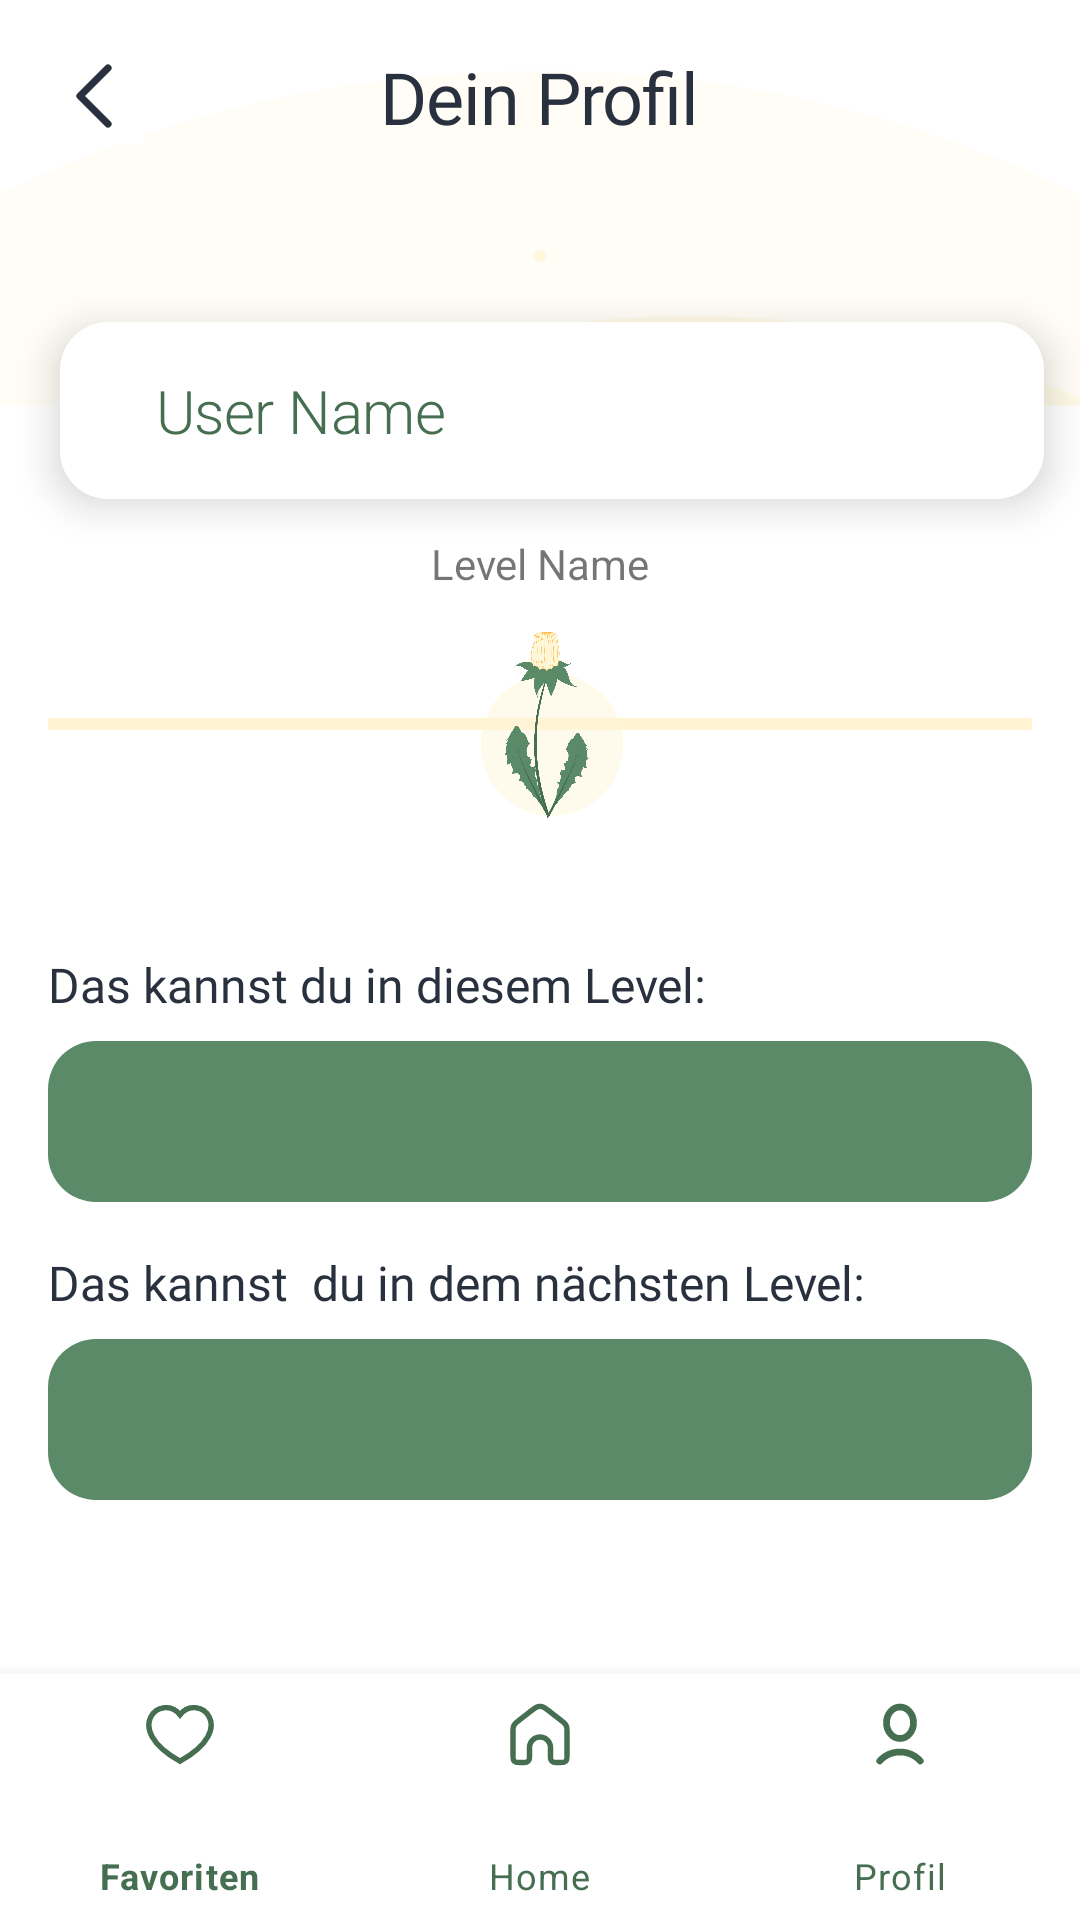

Icon bounding boxes for this 1080*1920 phone screenshot, format region(x1, y1, x2, y2):
blume: region(456, 632, 648, 818)
left: region(76, 64, 112, 128)
